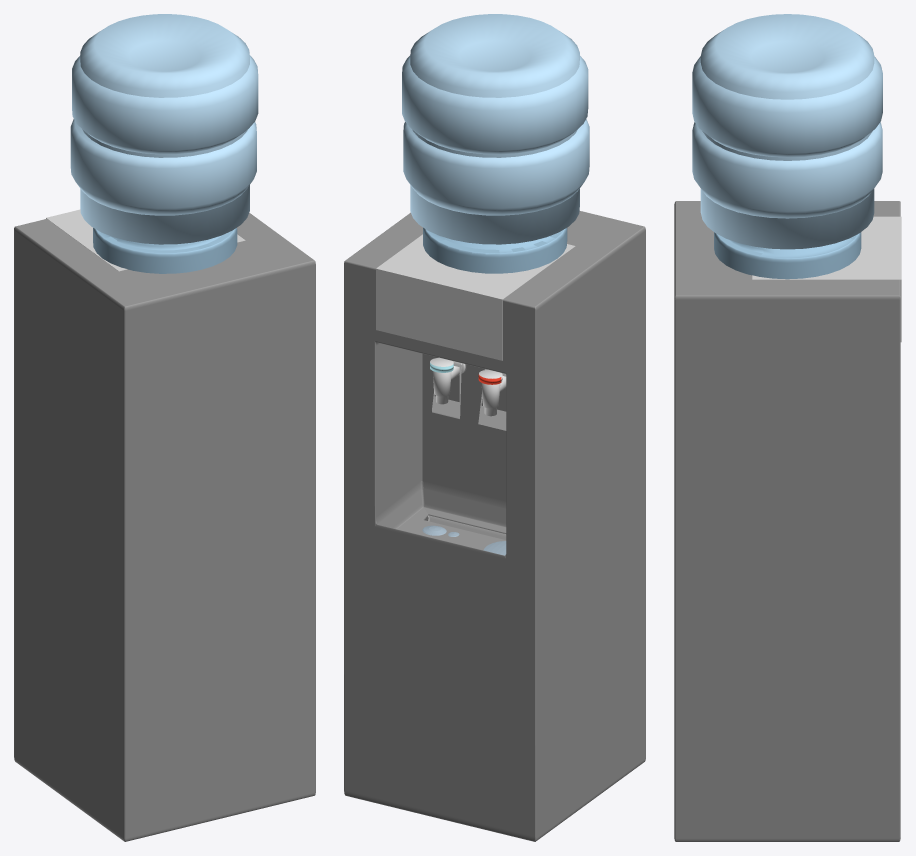
The model's file is water filter more mess.fbx.
The picture shows the model from 3 angles, left to right: view 1: azimuth 30°, elevation 25°; view 2: azimuth 150°, elevation 25°; view 3: azimuth 270°, elevation 25°; orthographic projection. The views are drawn at different scales.
Parts seen in each view (by area): view 1: Cube, Cylinder.008, Cylinder.007; view 2: Cube, Cylinder.008, Cylinder.007; view 3: Cube, Cylinder.008, Cylinder.007.
Boxes of the visible parts, left/top/right/bottom form: Cube: left=14, top=213, right=315, bottom=841; Cylinder.008: left=70, top=14, right=258, bottom=244; Cylinder.007: left=46, top=209, right=245, bottom=271; Cube: left=344, top=211, right=645, bottom=841; Cylinder.008: left=402, top=14, right=589, bottom=244; Cylinder.007: left=376, top=234, right=575, bottom=384; Cube: left=674, top=201, right=900, bottom=841; Cylinder.008: left=692, top=14, right=882, bottom=249; Cylinder.007: left=752, top=216, right=901, bottom=342.
Size of the model in its own units: 200 by 732 by 201.
